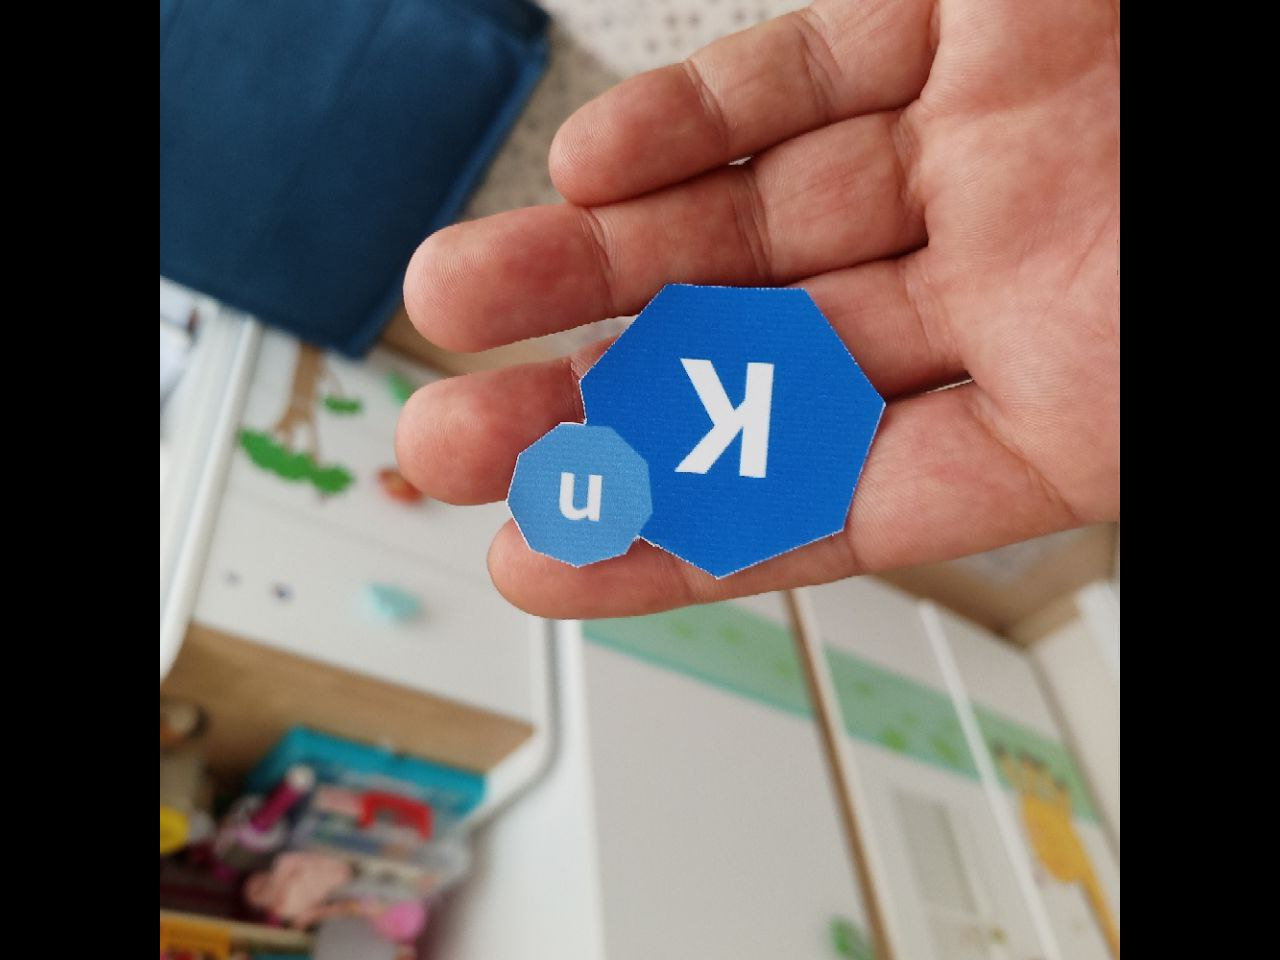knative: (507, 286, 891, 581)
